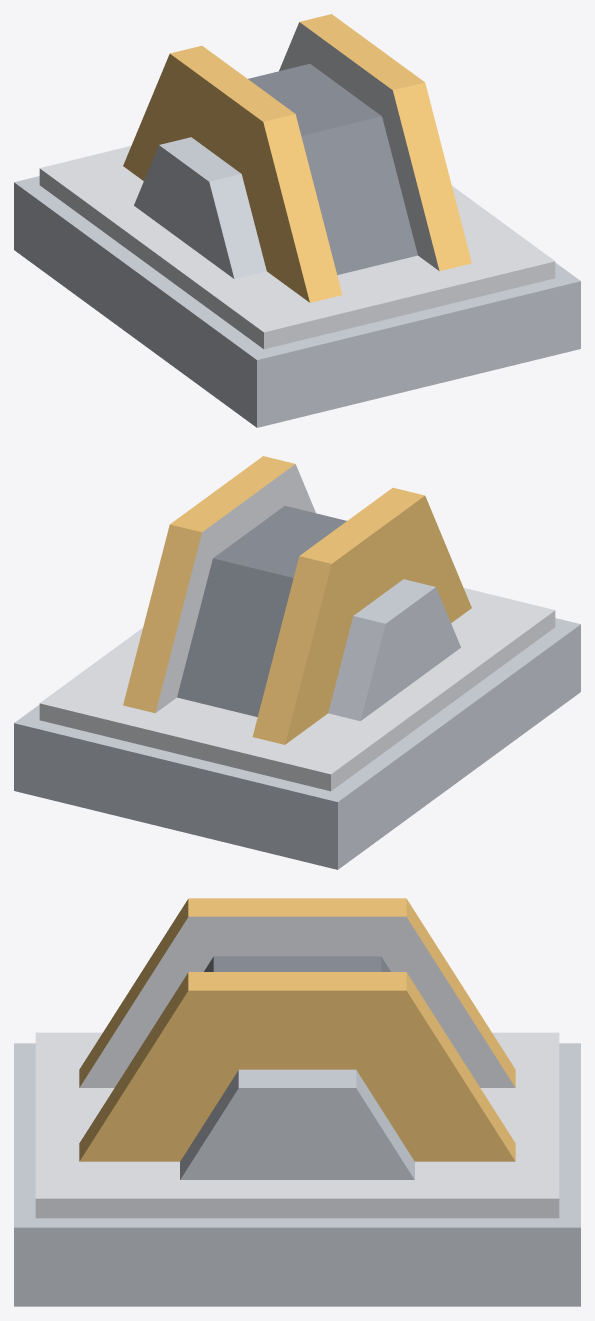
File: machine_generatorLarge.glb
3 views of the same model, one above another, from view 1: azimuth 30°, elevation 25°; view 2: azimuth 150°, elevation 25°; view 3: azimuth 270°, elevation 25° (orthographic). The views are drawn at different scales.
Parts seen in each view (by area): view 1: machine_generatorLarge; view 2: machine_generatorLarge; view 3: machine_generatorLarge.
Boxes of the visible parts, x1=… form: machine_generatorLarge: x1=14, y1=14, x2=580, y2=427; machine_generatorLarge: x1=14, y1=456, x2=580, y2=869; machine_generatorLarge: x1=14, y1=898, x2=580, y2=1306.
Bounding box in the file's own units: 1 × 0.683 × 1.3.
